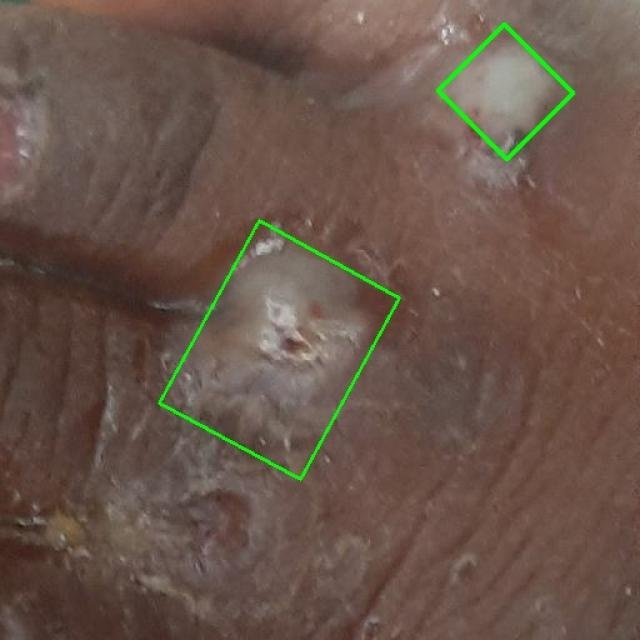Eczema: (160, 221, 400, 480), (438, 24, 572, 159)
